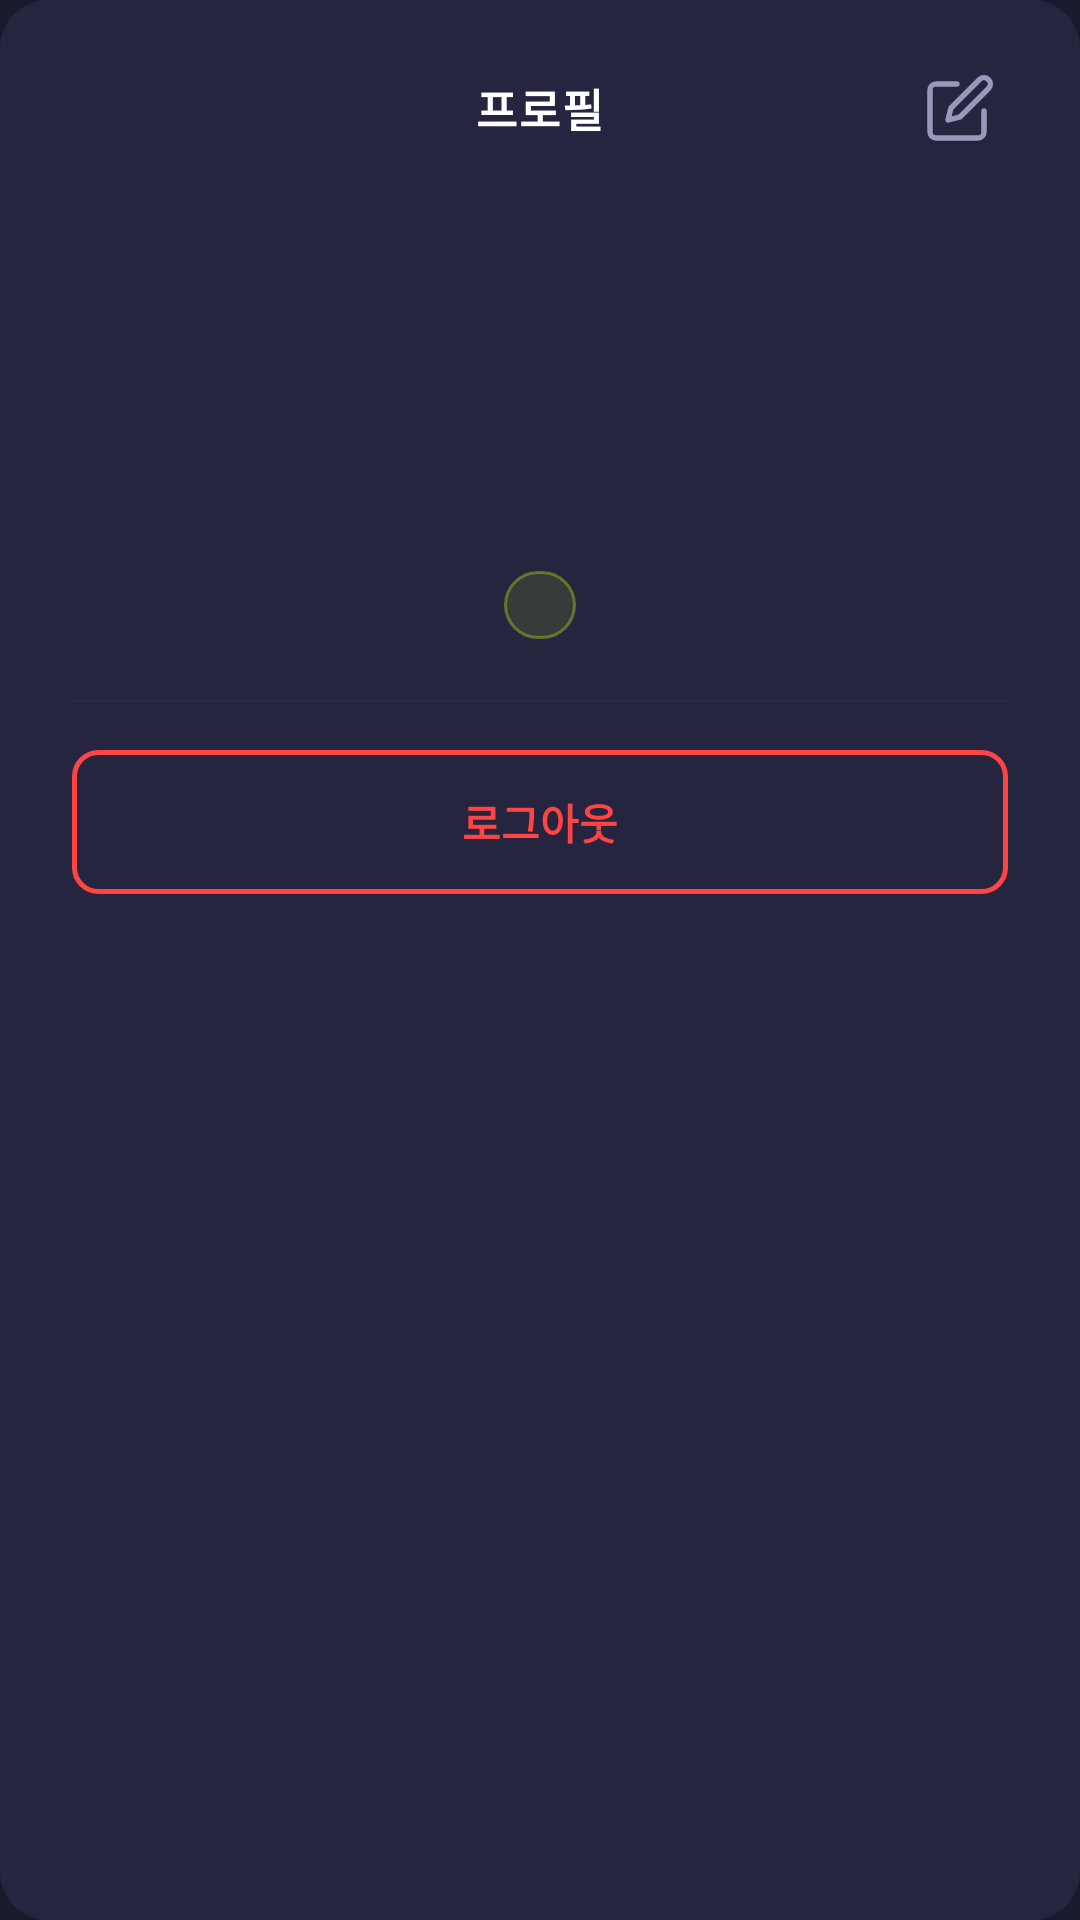

Where icons sit on this 1080w x 1920h app screen, as (x1, y1, x2, y2):
프로필 편집: (927, 75, 993, 141)
